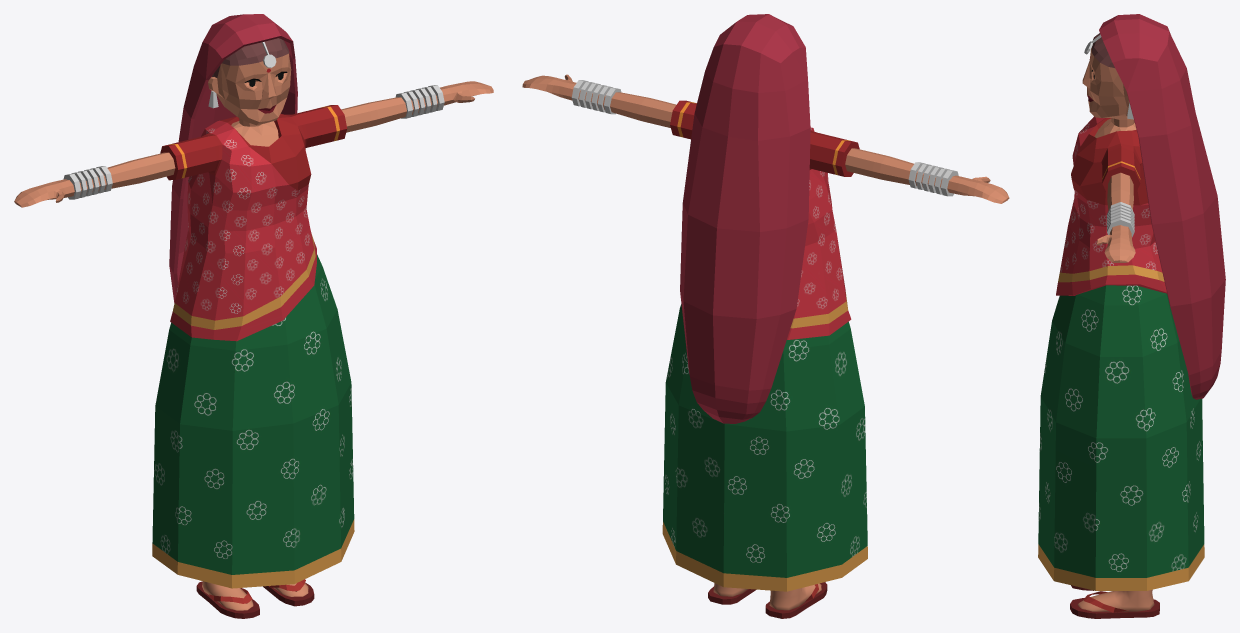
Rendered from delh_char_01.fbx.
3 views of the same model, side by side, from view 1: azimuth 30°, elevation 25°; view 2: azimuth 150°, elevation 25°; view 3: azimuth 270°, elevation 25° (orthographic).
Parts seen in each view (by area): view 1: delh_char_01; view 2: delh_char_01; view 3: delh_char_01.
Boxes of the visible parts, x1,y1,x2,y2 form: delh_char_01: (14, 14, 493, 618); delh_char_01: (522, 14, 1009, 618); delh_char_01: (1038, 14, 1225, 618).
Size of the model in its own units: 154 by 177 by 52.26.
